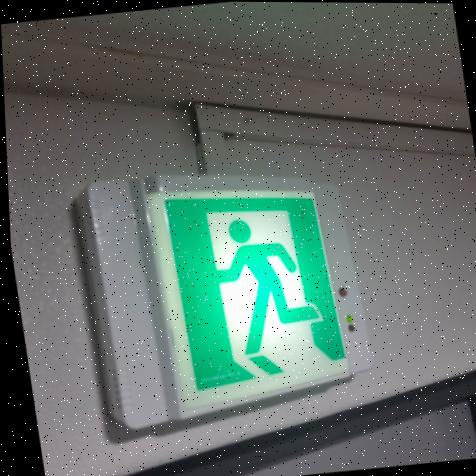emergency_exit: (143, 182, 354, 418)
